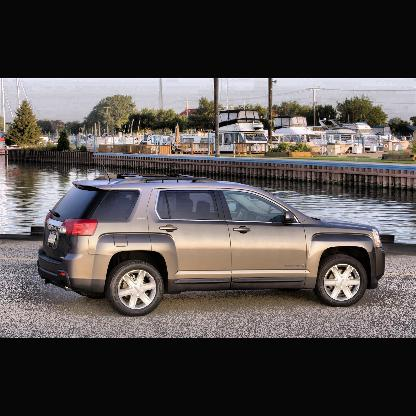GMC Terrain SUV 2012: (39, 176, 387, 319)
